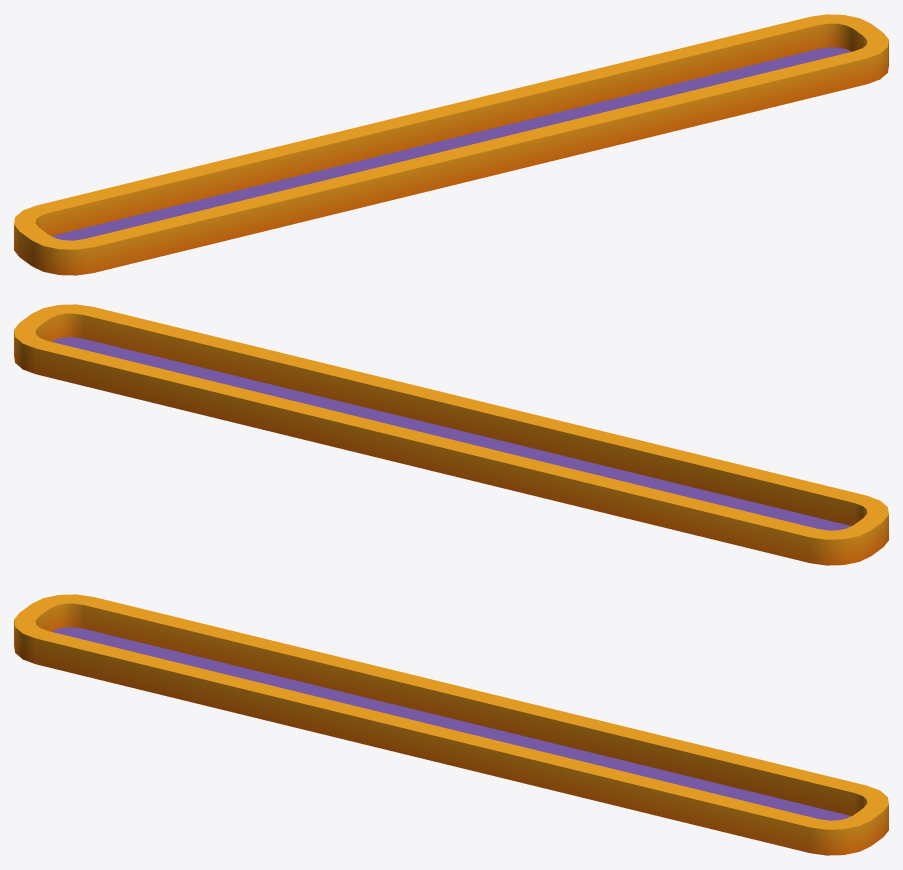
Rendered from Gound_Socket_02_v03.fbx.
The picture shows the model from 3 angles, top to bottom: view 1: azimuth 30°, elevation 25°; view 2: azimuth 150°, elevation 25°; view 3: azimuth 330°, elevation 25°; orthographic projection.
Visible parts, largest first — view 1: Obstacle_Gound_Socket_02_v03; view 2: Obstacle_Gound_Socket_02_v03; view 3: Obstacle_Gound_Socket_02_v03.
Part boxes in pixels (x1=…): Obstacle_Gound_Socket_02_v03: x1=14, y1=14, x2=888, y2=275; Obstacle_Gound_Socket_02_v03: x1=14, y1=304, x2=888, y2=565; Obstacle_Gound_Socket_02_v03: x1=14, y1=594, x2=888, y2=855.
Bounding box in the file's own units: 173 × 5 × 20.
Materials: 1 (1 with a texture image).
